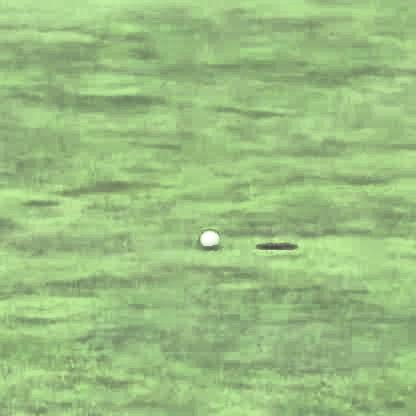golfball: (198, 227, 216, 245)
